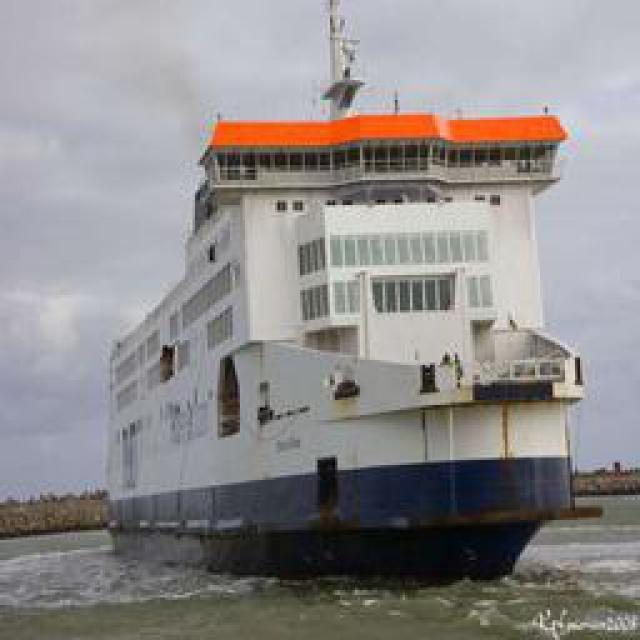Ship: (100, 132, 583, 575)
